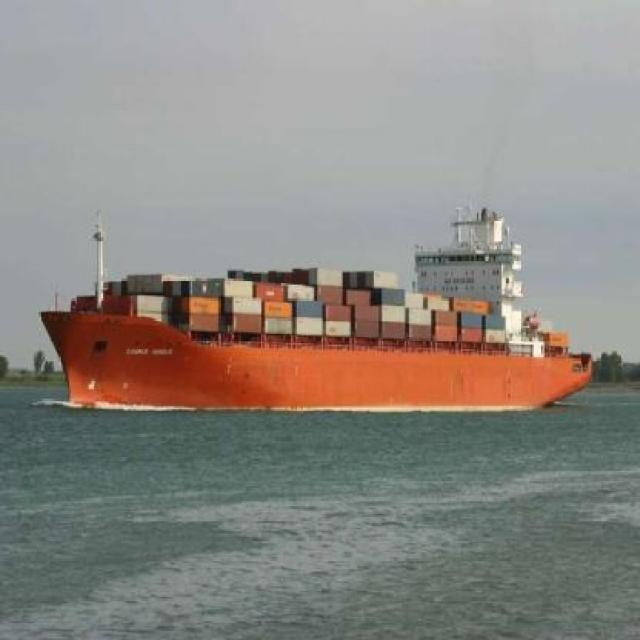ship: (22, 225, 584, 402)
